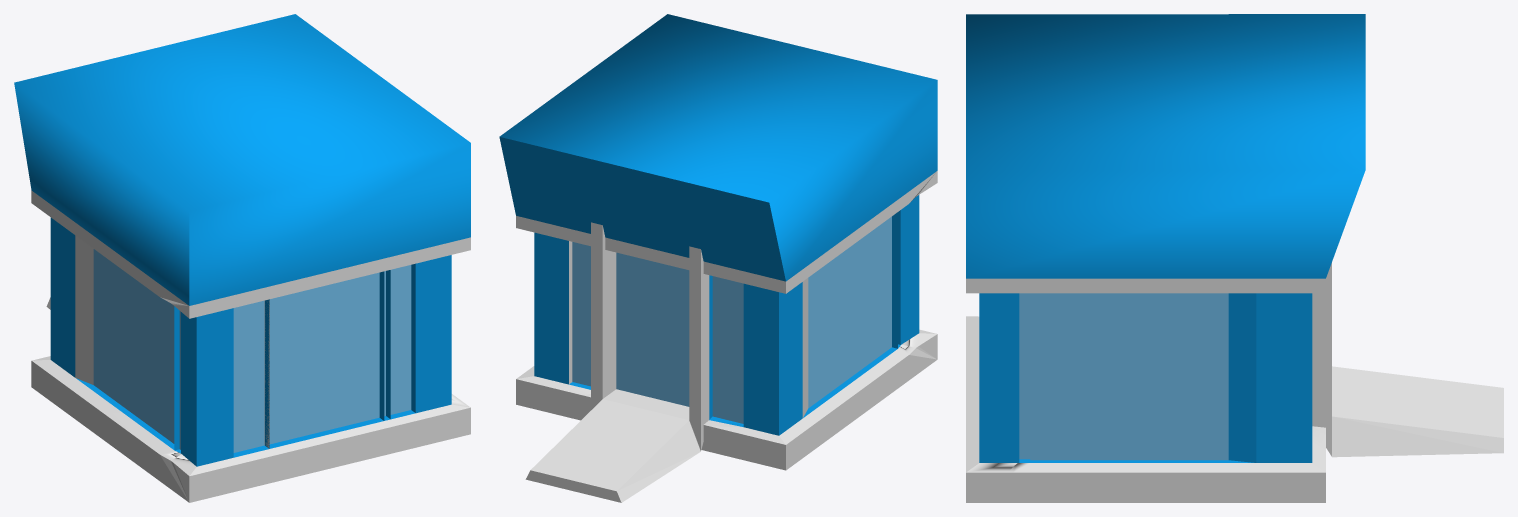
Rendered from Shop2x2x2Blue.fbx.
3 renders of one model, left to right at view 1: azimuth 30°, elevation 25°; view 2: azimuth 150°, elevation 25°; view 3: azimuth 270°, elevation 25°, orthographic. The views are drawn at different scales.
Visible parts, largest first — view 1: Shop.002; view 2: Shop.002; view 3: Shop.002.
Boxes of the visible parts, left/top/right/bottom form: Shop.002: left=14, top=14, right=470, bottom=502; Shop.002: left=499, top=14, right=937, bottom=502; Shop.002: left=966, top=14, right=1503, bottom=502.
Bounding box in the file's own units: 2 × 1.98 × 2.91.
1 material, 1 textured.
